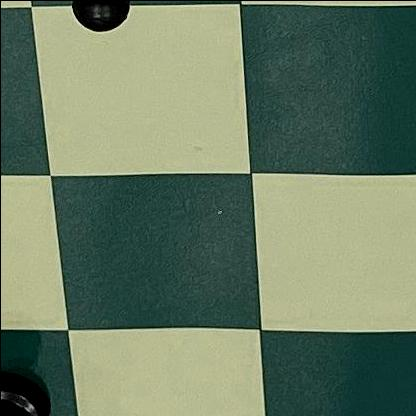black-pawn: (48, 0, 179, 49)
